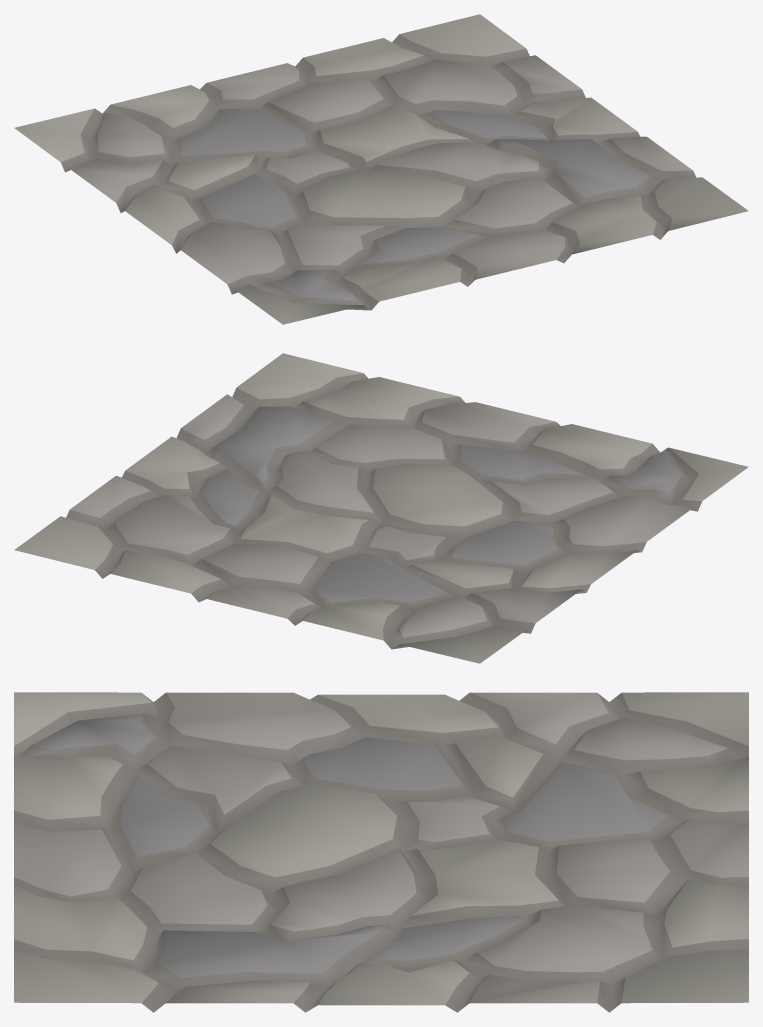
Rendered from rpgpp_ag_floor_03a_3x3.fbx.
3 views of the same model, one above another, from view 1: azimuth 30°, elevation 25°; view 2: azimuth 150°, elevation 25°; view 3: azimuth 270°, elevation 25° (orthographic). The views are drawn at different scales.
Parts seen in each view (by area): view 1: rpgpp_ag_floor_03a_3x3; view 2: rpgpp_ag_floor_03a_3x3; view 3: rpgpp_ag_floor_03a_3x3.
Boxes of the visible parts, x1,y1,x2,y2 form: rpgpp_ag_floor_03a_3x3: (14, 14, 748, 324); rpgpp_ag_floor_03a_3x3: (14, 353, 748, 663); rpgpp_ag_floor_03a_3x3: (14, 692, 748, 1012).
Bounding box in the file's own units: 3 × 0.045 × 3.
